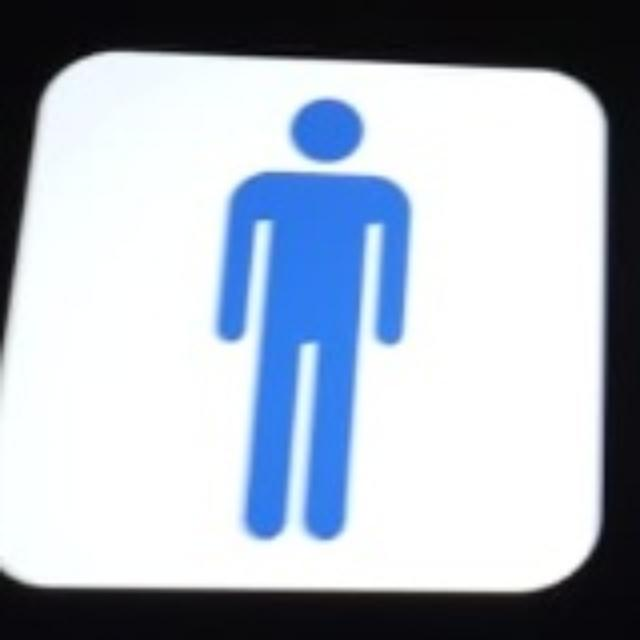wc nam: (0, 56, 600, 584)
